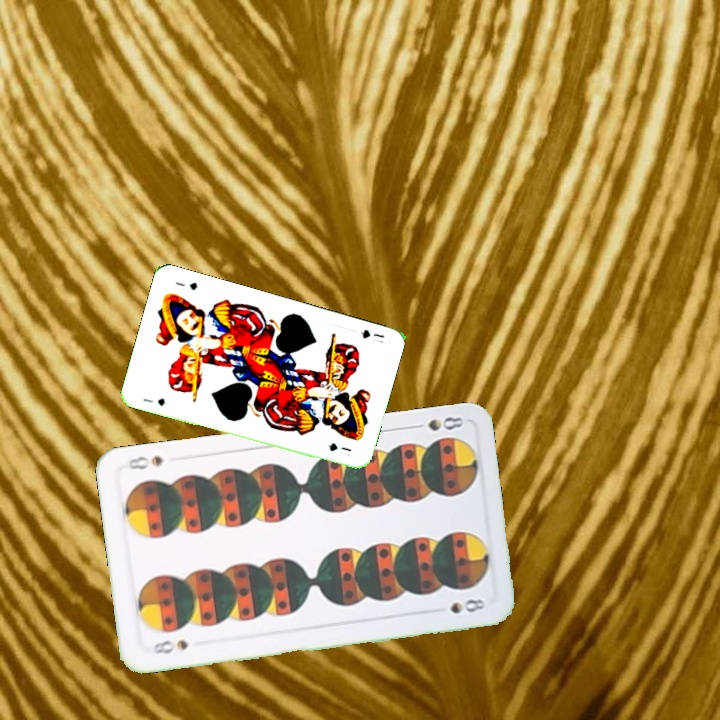GU: (357, 325, 387, 346), (139, 394, 168, 409)
S8: (407, 413, 466, 434), (150, 636, 190, 657)
